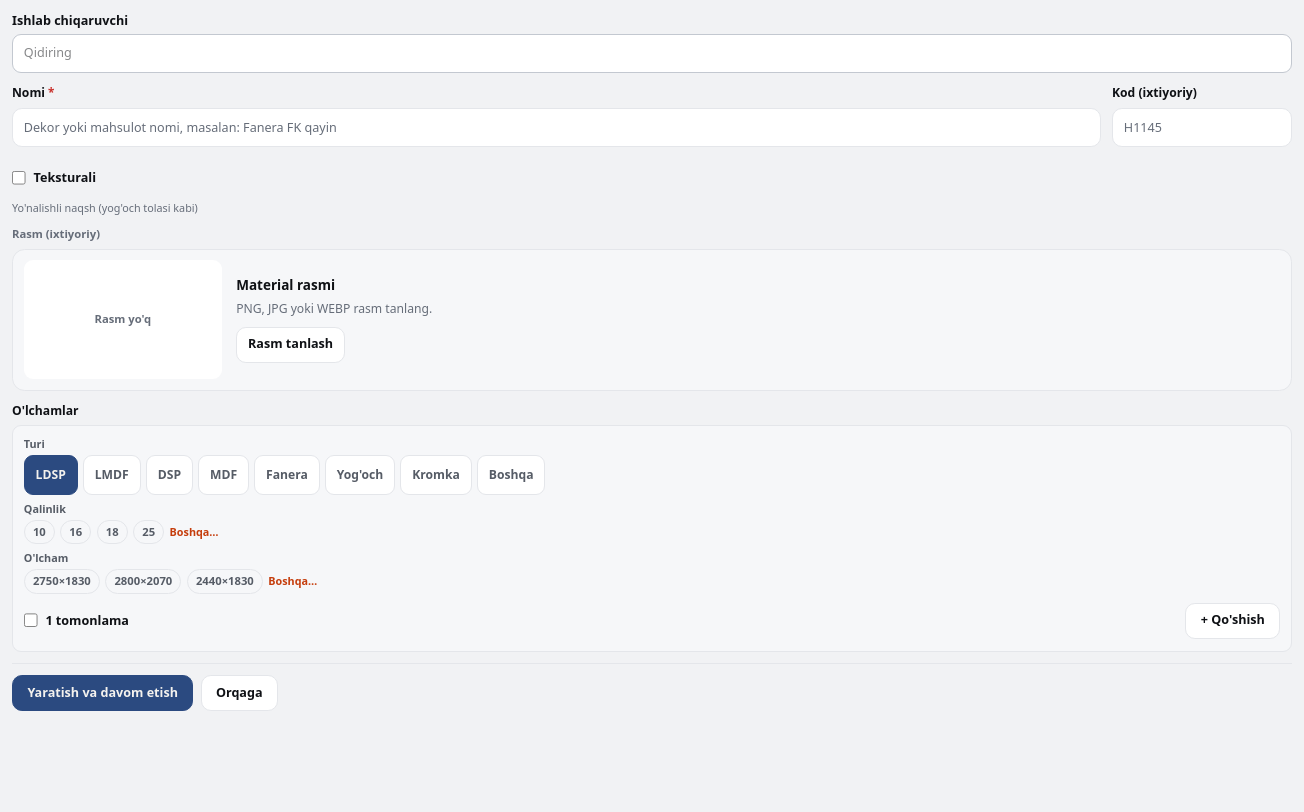
Scenario: BranchDecorCreateForm — the workshop enters what the library lacks › anchors a 409 decor_exists on the identity fields and names the clash
Focus the dropdown labelled "Ishlab chiqaruvchi" at (652, 53), box [12,34,1292,73]
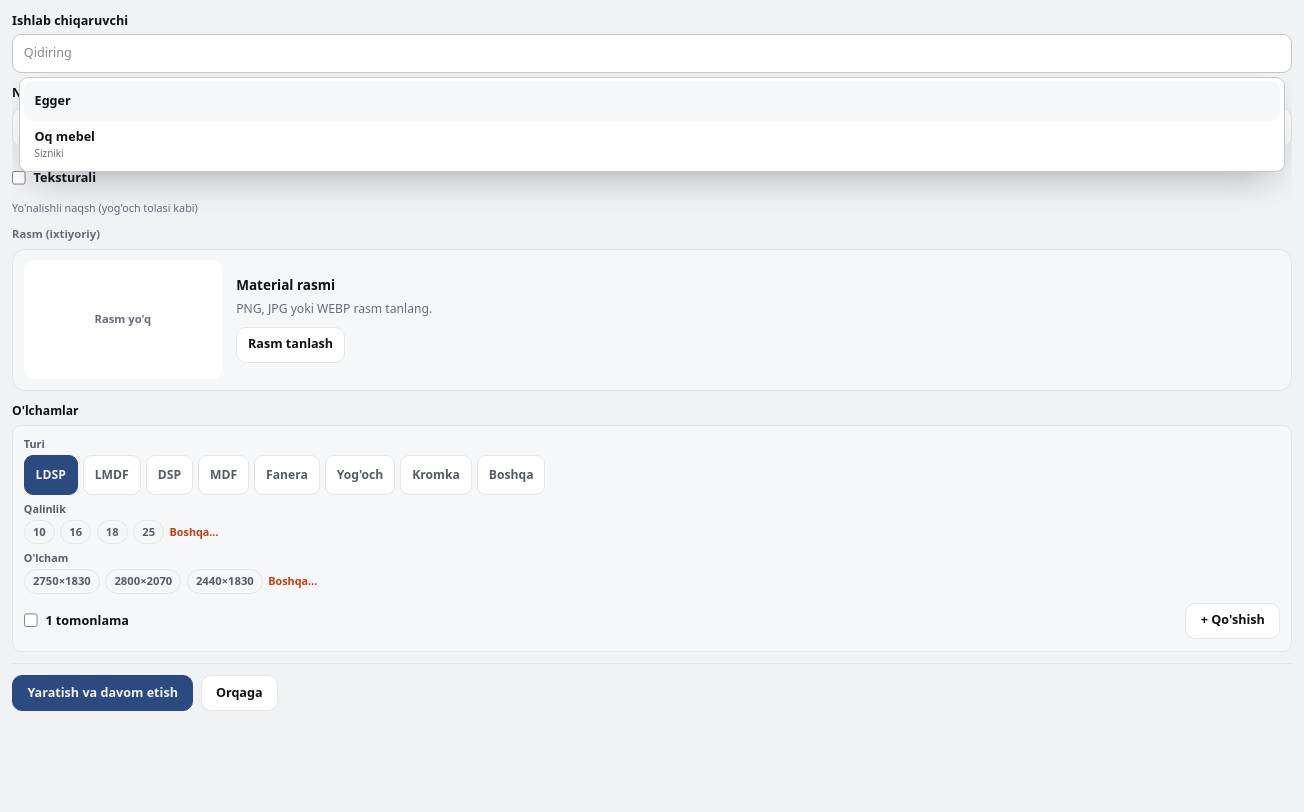
Click the option "Egger" at (53, 101), box [24,81,1280,121]
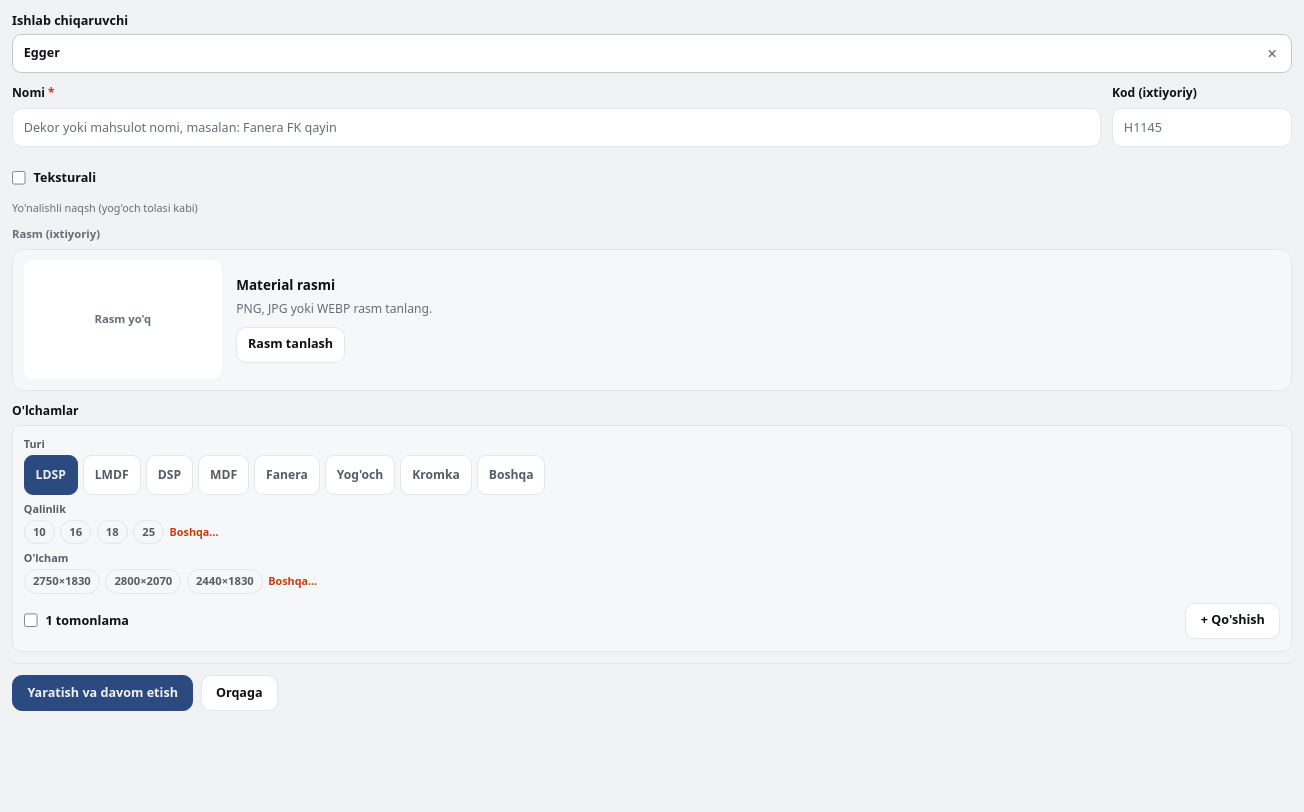
Type "Oq" into the field with id "branch-decor-name" at (557, 127), box [12,108,1101,147]
Click the button with class "mp-chip" showing "18" at (112, 532), box [97,520,128,544]
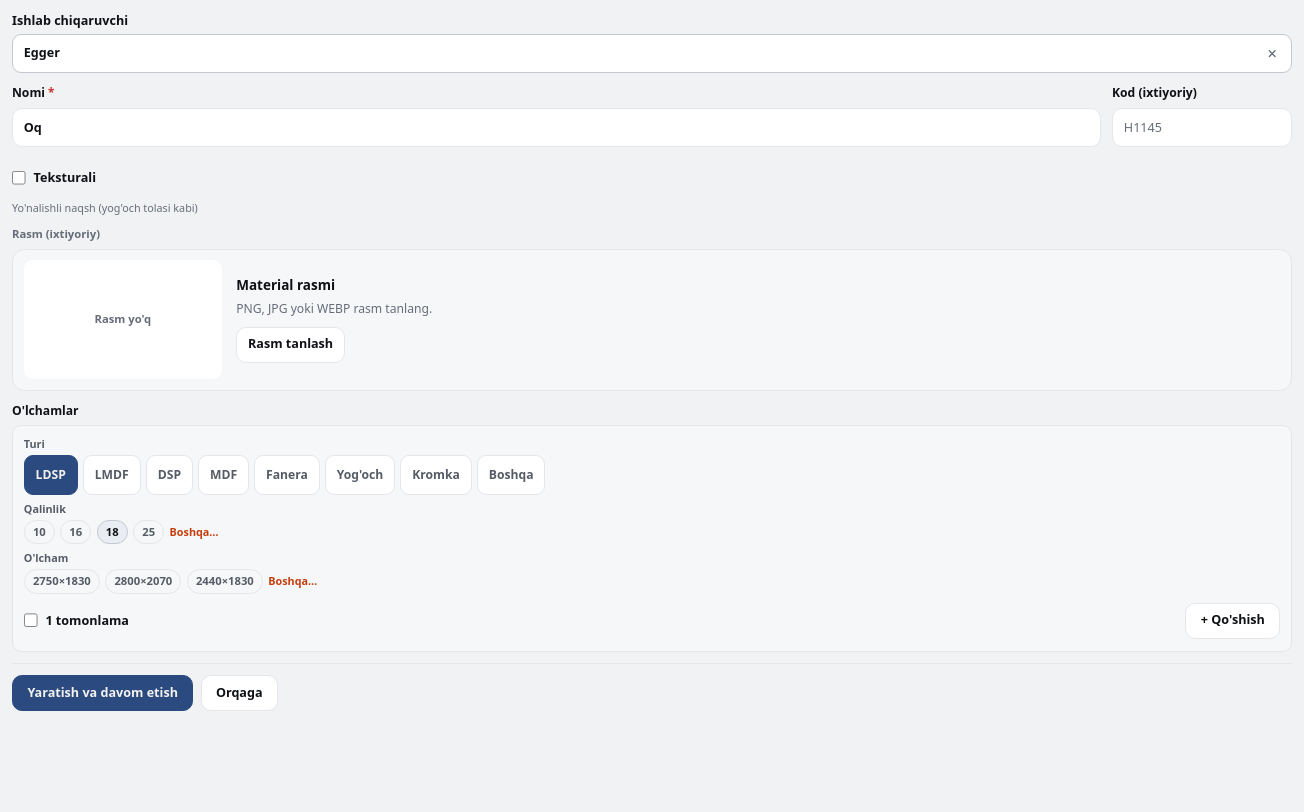
Click the button with class "mp-chip" showing "2750×1830" at (62, 582), box [24,569,100,594]
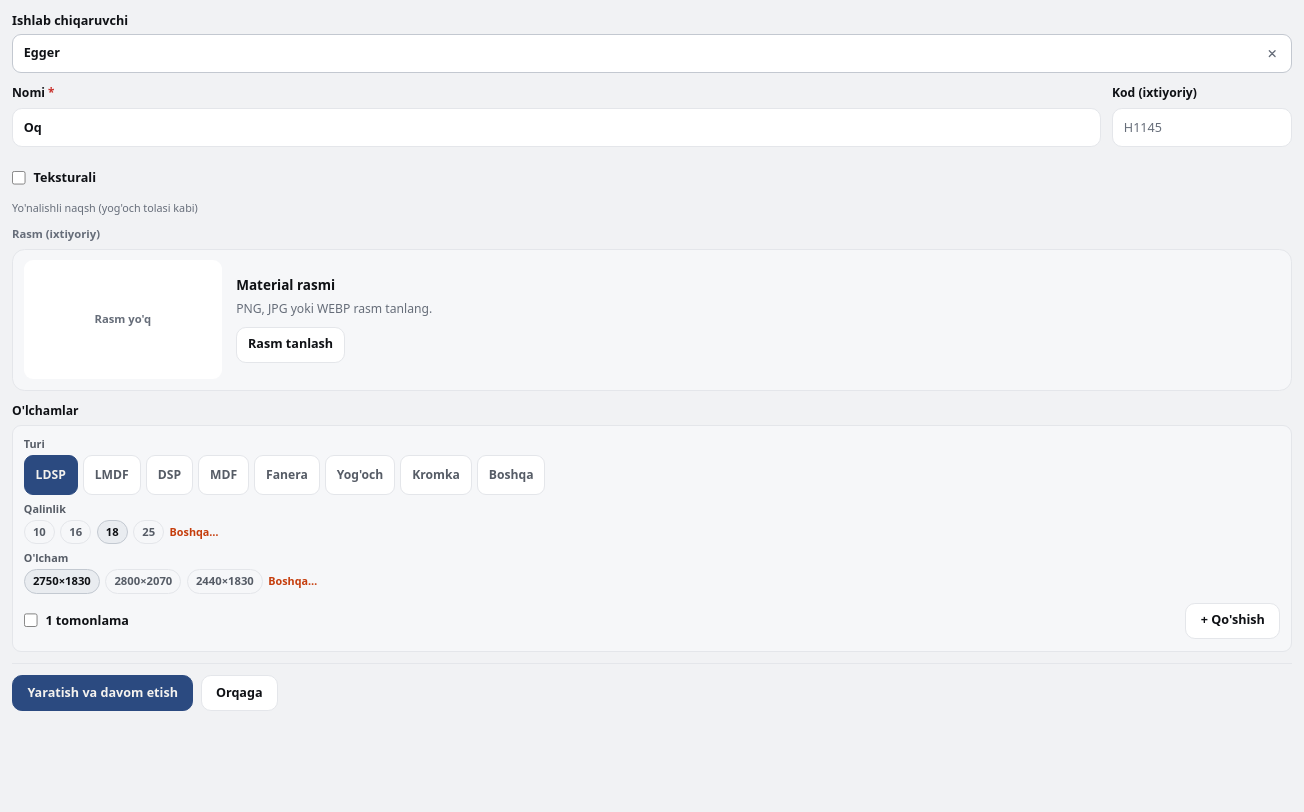
Click the button "+ Qo'shish" at (1233, 621), box [1185,603,1280,639]
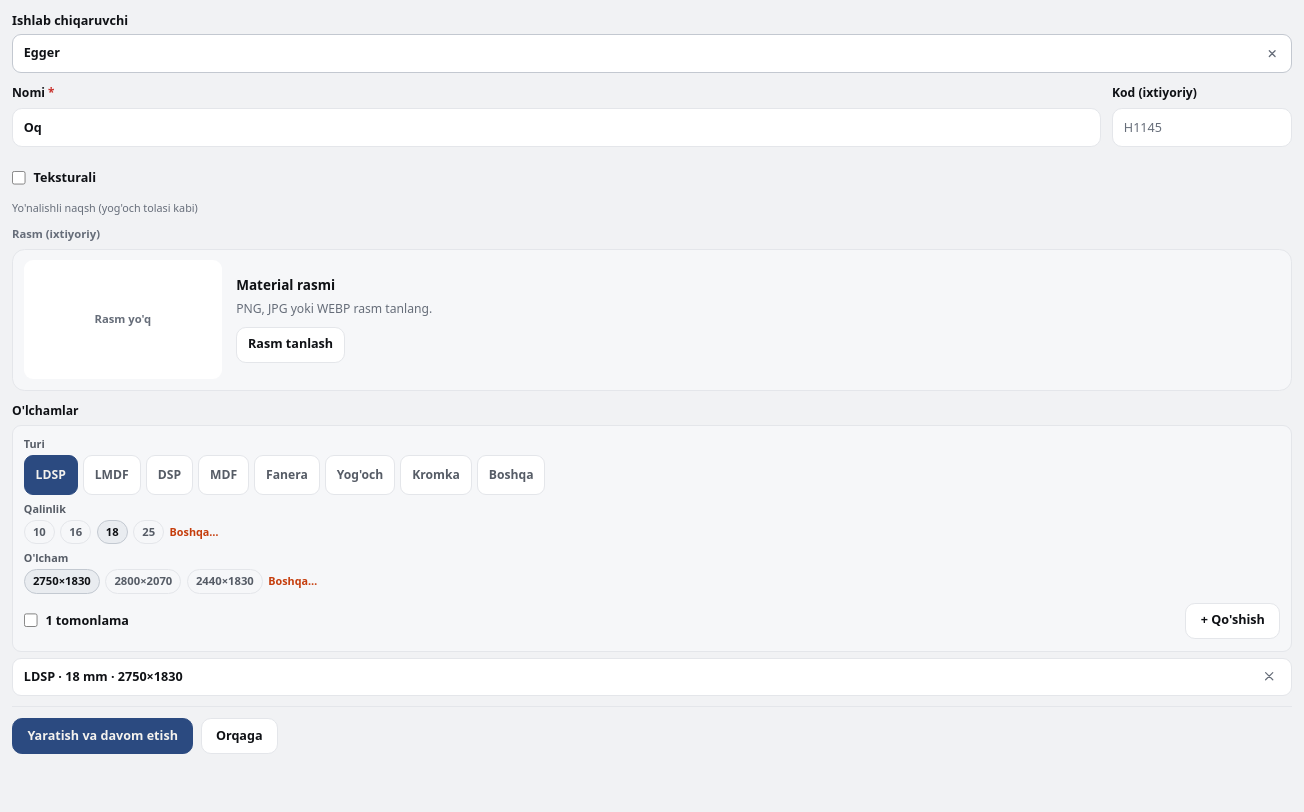
Submit the form
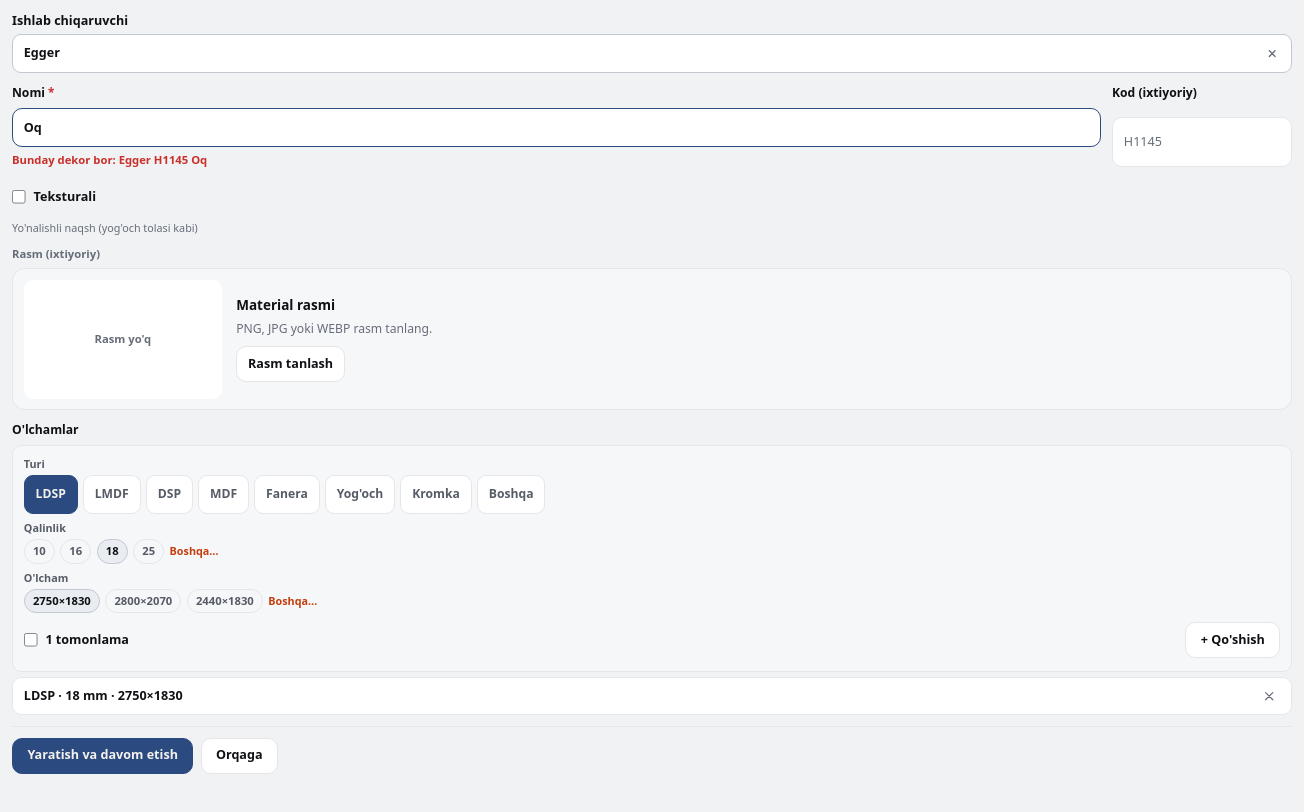
Result: the text with id "branch-decor-name-error" reads "Bunday dekor bor: Egger H1145 Oq" at [12,152,207,167]
